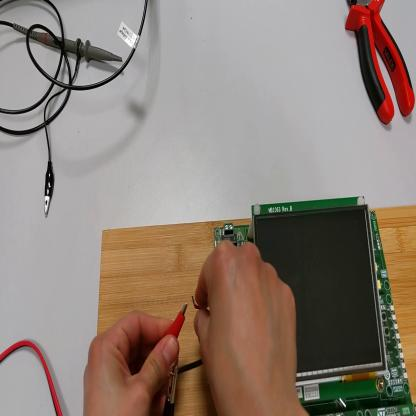hand: (193, 237, 301, 414), (82, 312, 180, 416)
low voltage board: (193, 197, 416, 416)
oscilloscope probe tip: (14, 23, 123, 63)
pliers: (344, 1, 416, 125)
working area: (98, 205, 414, 415)
